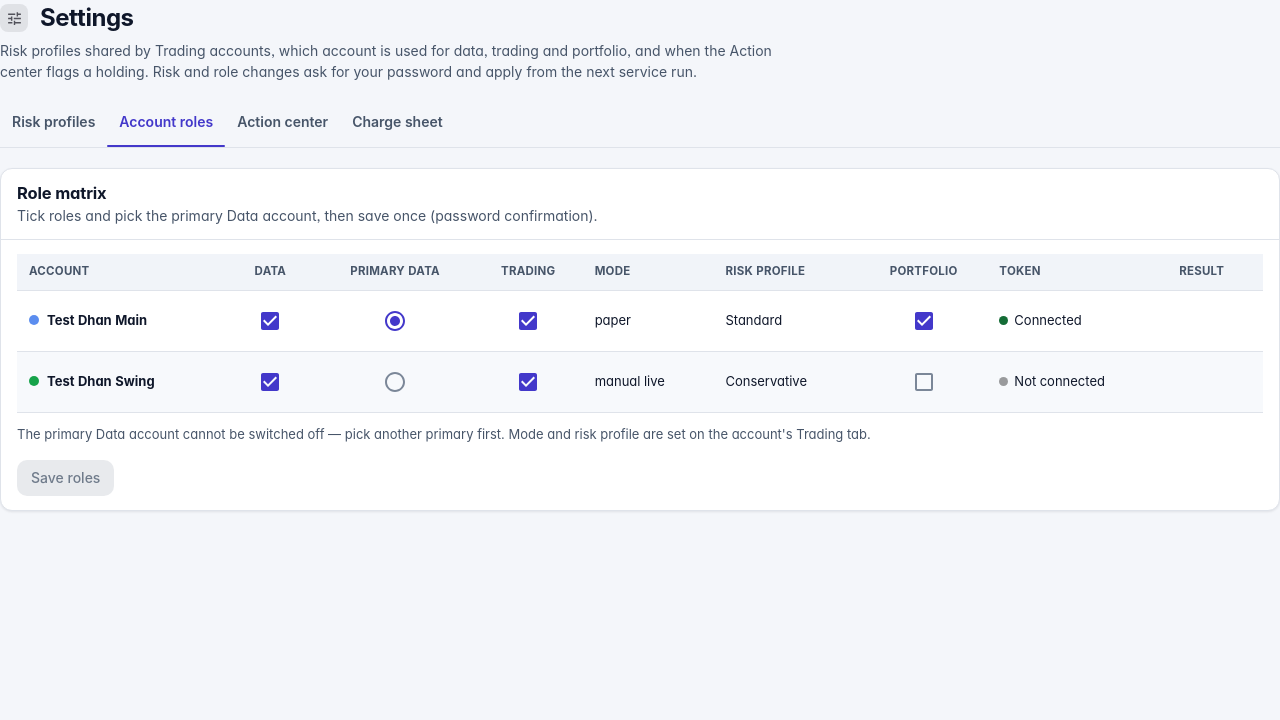
Test: Role matrix › stops without changes when the password dialog is cancelled
Click the checkbox named "Portfolio — Test Dhan Swing".
click(924, 382)  # box [912, 370, 936, 394]
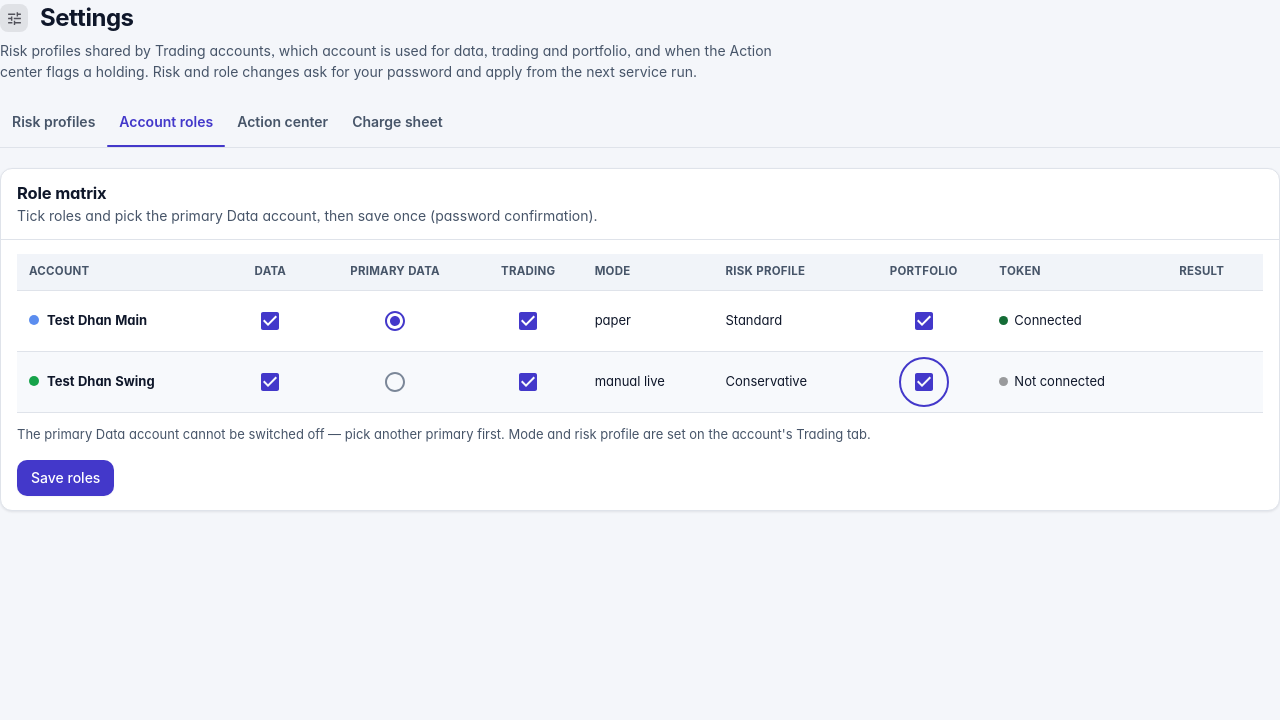
Click the button "Save roles".
click(66, 478)  # box [17, 460, 114, 496]
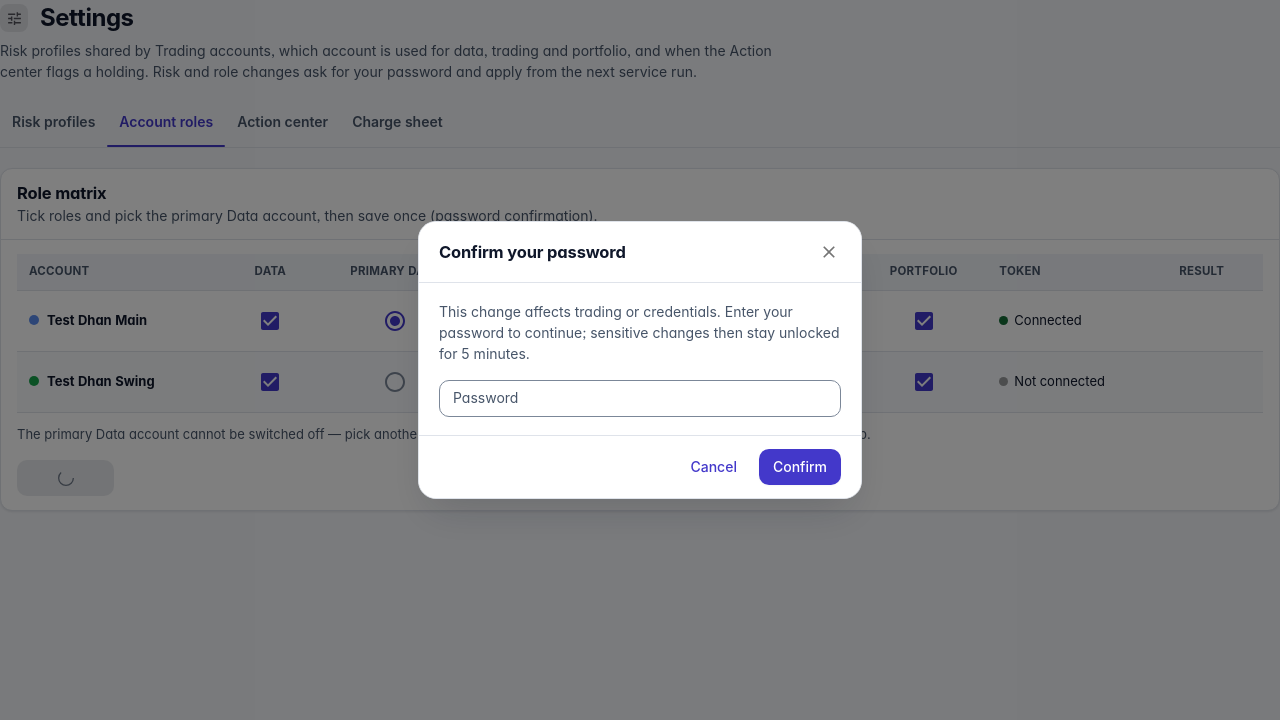
Click the button "Cancel".
click(714, 467)  # box [676, 449, 751, 485]
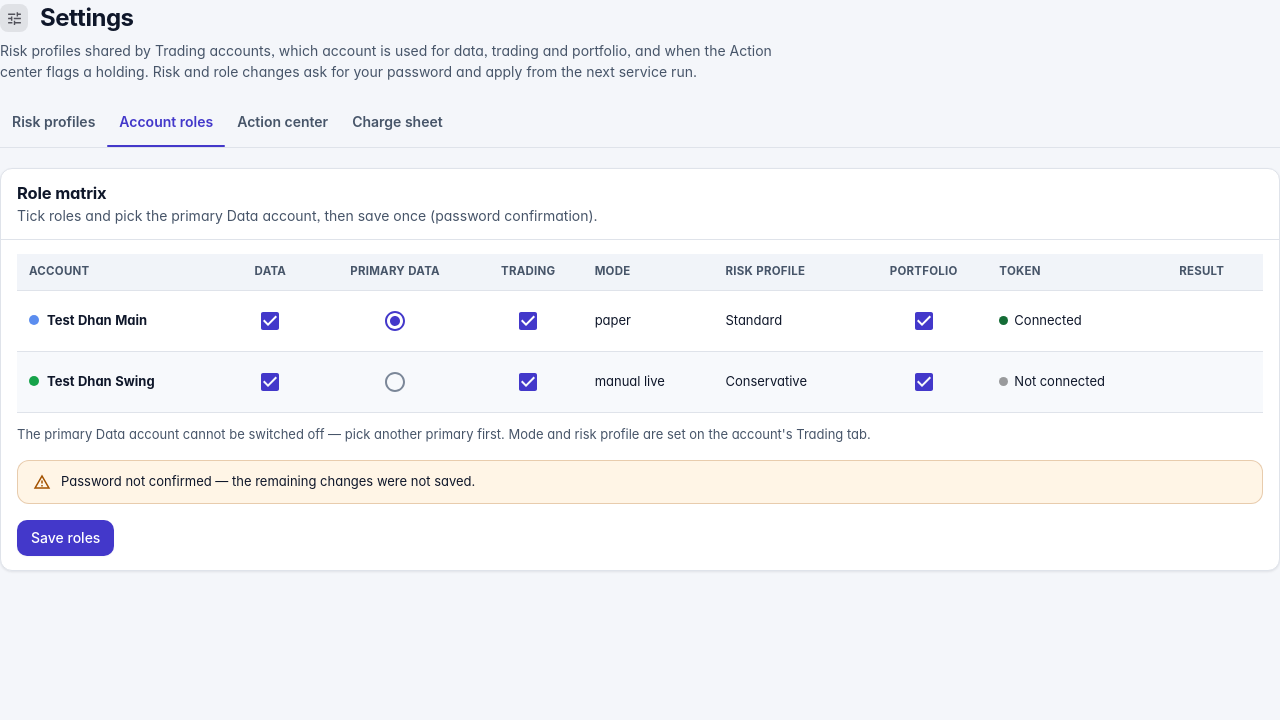
Now the text "Password not confirmed" is shown, box [61, 473, 475, 489]
